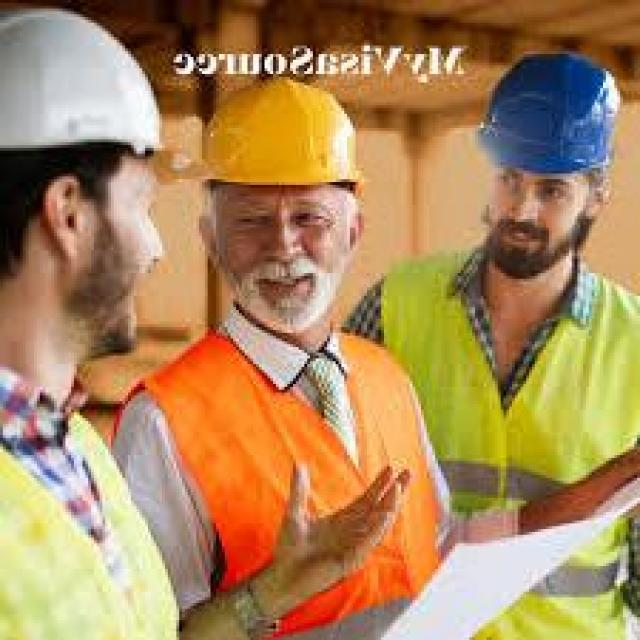Reflective-Jacket: (120, 322, 438, 637), (392, 256, 640, 637), (0, 358, 176, 639)
Safety-Helmet: (0, 5, 176, 176), (179, 71, 376, 199), (464, 48, 632, 182)
